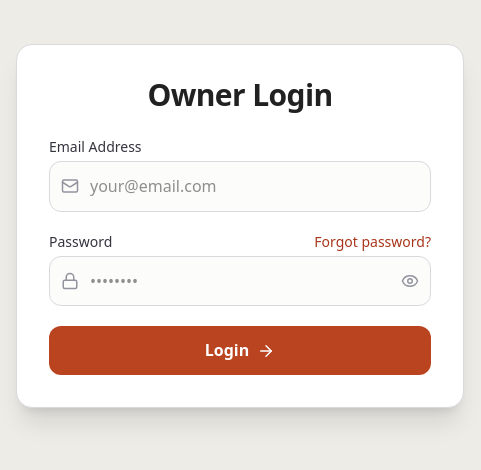
Test: the reset form (VM-14) › doesn't claim it sent anything when the network failed
The width and height of the screenshot is (481, 470).
Click the button "Forgot password?": (373, 242) [314, 232, 431, 252]
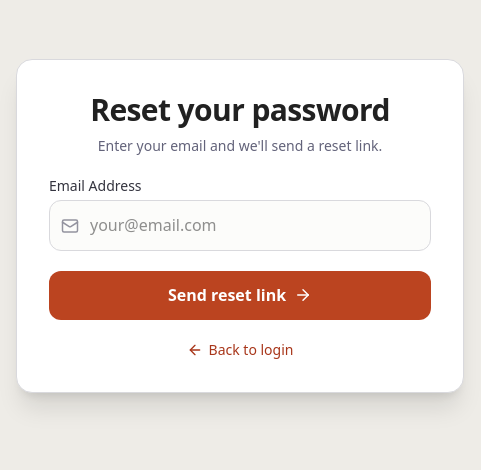
In the field labelled "Email Address": (240, 226) [49, 200, 431, 251], type "dara@x.test"
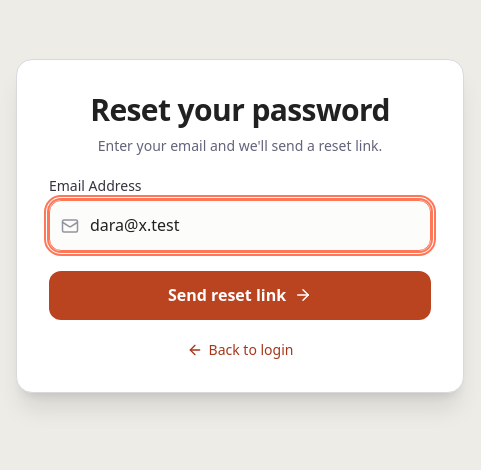
Click the button "Send reset link": (240, 295) [49, 271, 431, 320]
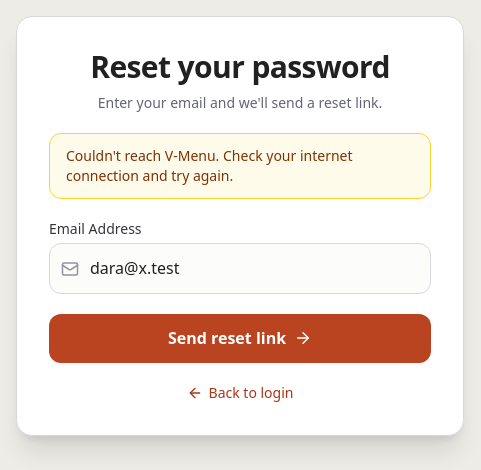
Expected: the text "Couldn't reach V-Menu. Check your internet connection and try again." is shown, [49, 133, 431, 199]
